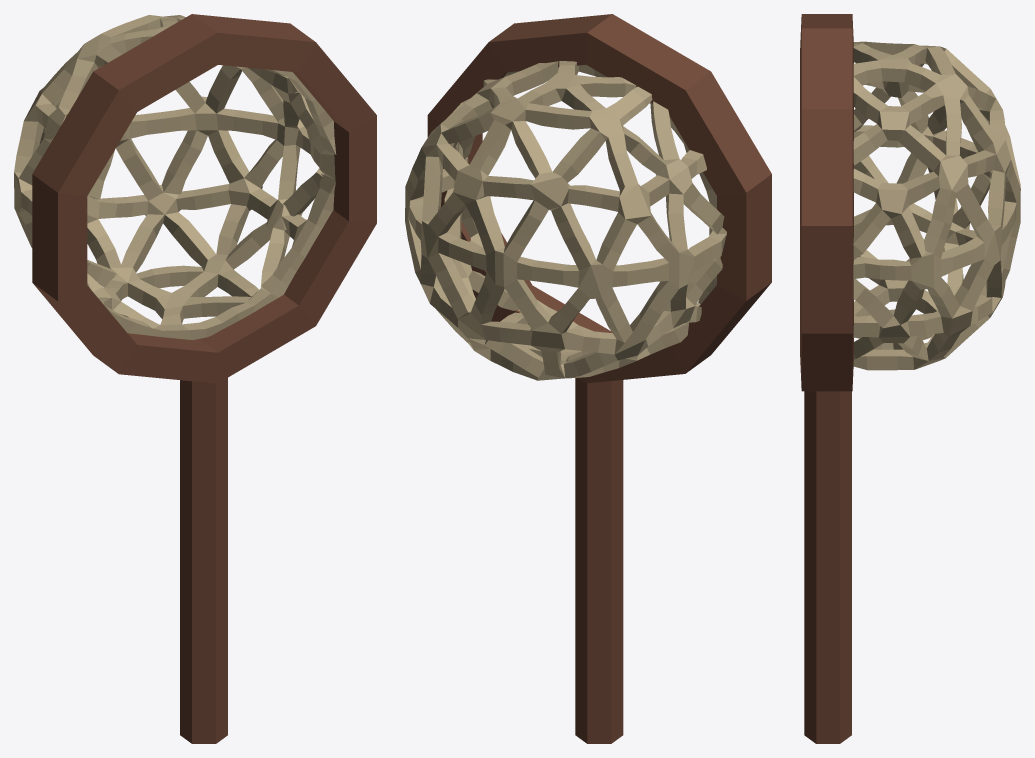
Rendered from NetTool.fbx.
The picture shows the model from 3 angles, left to right: view 1: azimuth 30°, elevation 25°; view 2: azimuth 150°, elevation 25°; view 3: azimuth 270°, elevation 25°; orthographic projection.
Visible parts, largest first — view 1: NetTool; view 2: NetTool; view 3: NetTool.
Part boxes in pixels (<box>): NetTool: <box>14,14,376,743</box>; NetTool: <box>405,14,771,743</box>; NetTool: <box>800,14,1020,743</box>.
Bounding box in the file's own units: 136 × 290 × 82.02.
